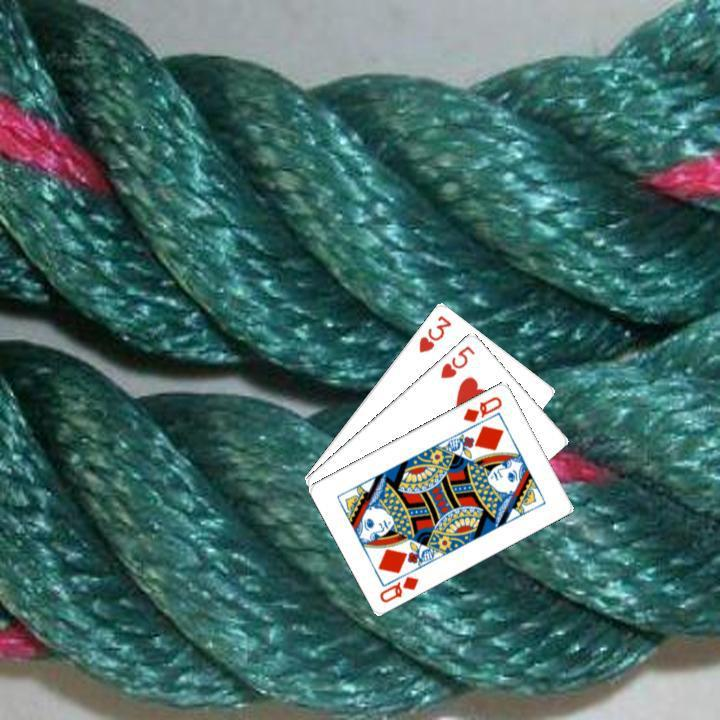3: (414, 310, 454, 354)
5: (436, 341, 477, 380)
Q: (375, 571, 421, 604), (459, 391, 504, 424)
